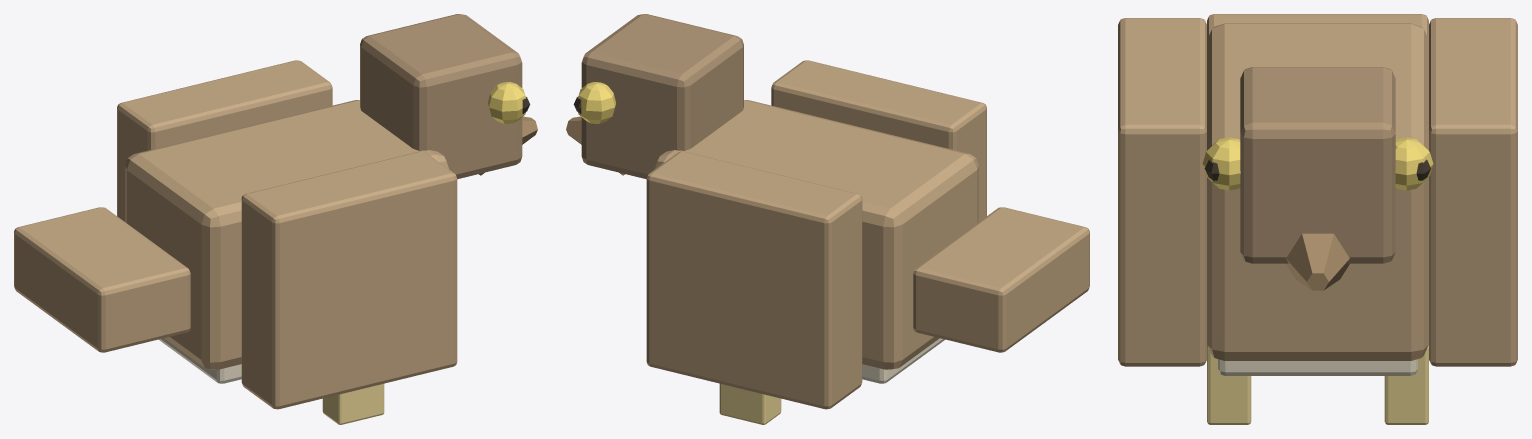
Rendered from falcon_v2.glb.
3 views of the same model, side by side, from view 1: azimuth 30°, elevation 25°; view 2: azimuth 150°, elevation 25°; view 3: azimuth 270°, elevation 25° (orthographic). The views are drawn at different scales.
Parts seen in each view (by area): view 1: Wing_L_Mesh, Body_Mesh, Head_Mesh, Tail_Mesh, Wing_R_Mesh, Talon_L, Eye_L, Body_Belly; view 2: Wing_R_Mesh, Body_Mesh, Head_Mesh, Tail_Mesh, Wing_L_Mesh, Talon_R, Eye_R, Body_Belly; view 3: Body_Mesh, Wing_L_Mesh, Wing_R_Mesh, Head_Mesh, Body_Belly, Beak, Talon_L, Talon_R, Tail_Mesh, Eye_L, Eye_R.
Boxes of the visible parts, x1,y1,x2,y2 form: Wing_L_Mesh: [241, 151, 457, 409]; Body_Mesh: [125, 100, 448, 369]; Head_Mesh: [360, 14, 522, 179]; Tail_Mesh: [14, 207, 190, 352]; Wing_R_Mesh: [117, 60, 332, 221]; Talon_L: [322, 383, 384, 424]; Eye_L: [488, 82, 525, 123]; Body_Belly: [158, 338, 241, 383]; Wing_R_Mesh: [646, 151, 862, 409]; Body_Mesh: [655, 100, 978, 369]; Head_Mesh: [581, 14, 743, 179]; Tail_Mesh: [913, 207, 1089, 352]; Wing_L_Mesh: [771, 60, 986, 221]; Talon_R: [719, 383, 781, 424]; Eye_R: [578, 82, 615, 123]; Body_Belly: [862, 338, 945, 383]; Body_Mesh: [1207, 23, 1428, 360]; Wing_L_Mesh: [1118, 18, 1206, 366]; Wing_R_Mesh: [1429, 18, 1517, 366]; Head_Mesh: [1240, 67, 1395, 263]; Body_Belly: [1218, 359, 1417, 375]; Beak: [1286, 233, 1349, 290]; Talon_L: [1207, 345, 1251, 424]; Talon_R: [1384, 345, 1428, 424]; Tail_Mesh: [1207, 14, 1428, 39]; Eye_L: [1202, 137, 1240, 190]; Eye_R: [1395, 137, 1433, 190].
Size of the model in its own units: 0.31 by 0.195 by 0.18.
